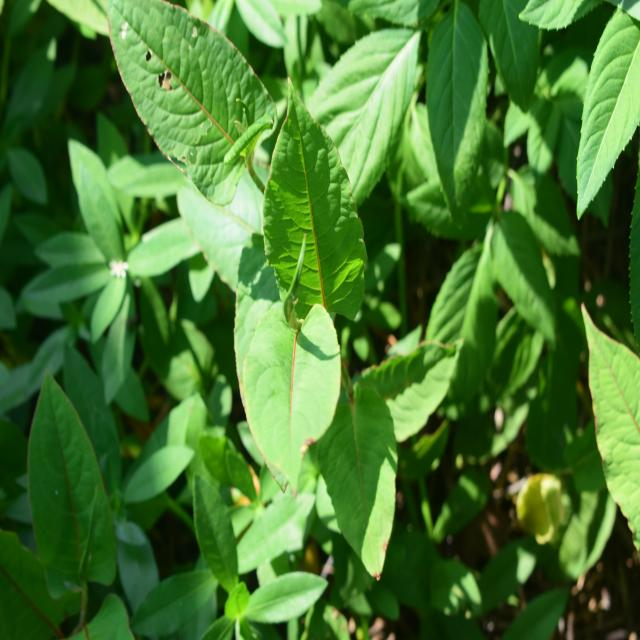Chinese_knotweed: (222, 72, 424, 546), (99, 3, 280, 203)
